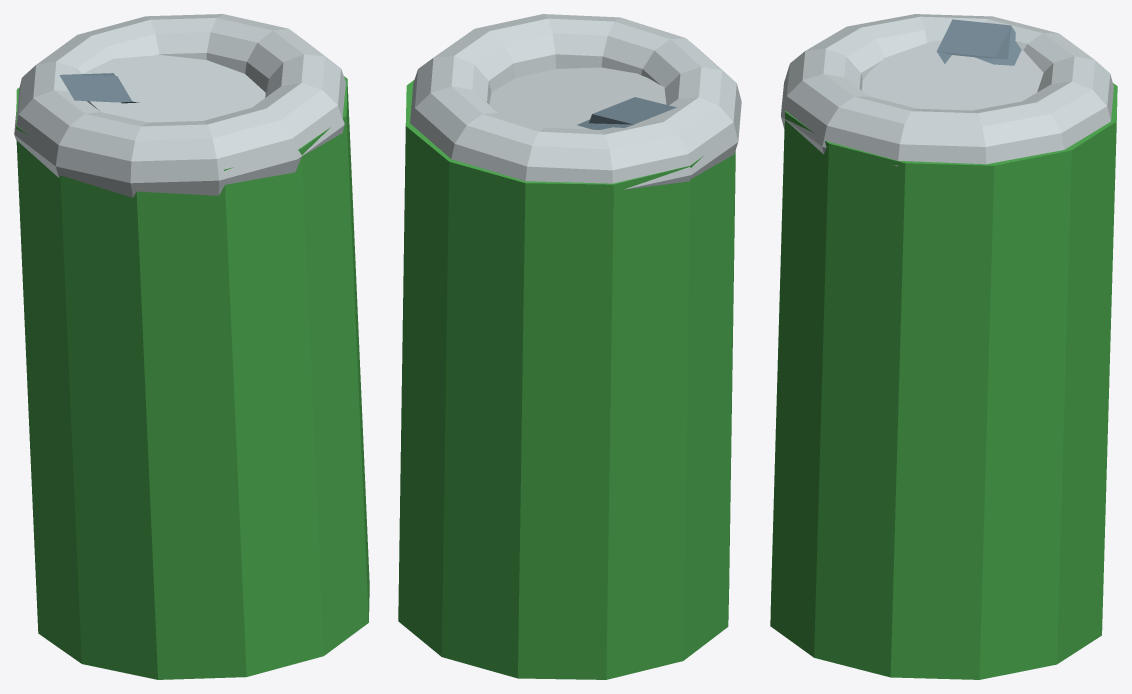
File: sodacan.obj
The picture shows the model from 3 angles, left to right: view 1: azimuth 30°, elevation 25°; view 2: azimuth 150°, elevation 25°; view 3: azimuth 270°, elevation 25°; orthographic projection.
Visible parts, largest first — view 1: group14728228, group704631813, group102268657, group698793005; view 2: group14728228, group704631813, group102268657, group698793005; view 3: group14728228, group704631813, group102268657, group698793005.
Part boxes in pixels (box(x1,y1,x2,y2)): group14728228: box(16, 76, 369, 679); group704631813: box(14, 14, 345, 197); group102268657: box(83, 55, 265, 122); group698793005: box(59, 73, 139, 103); group14728228: box(398, 80, 735, 679); group704631813: box(410, 14, 741, 189); group102268657: box(489, 67, 666, 129); group698793005: box(577, 97, 676, 129); group14728228: box(770, 77, 1117, 679); group704631813: box(781, 14, 1113, 166); group102268657: box(862, 40, 1043, 110); group698793005: box(936, 19, 1021, 65).
Size of the model in its own units: 0.0823 by 0.1416 by 0.0809.
